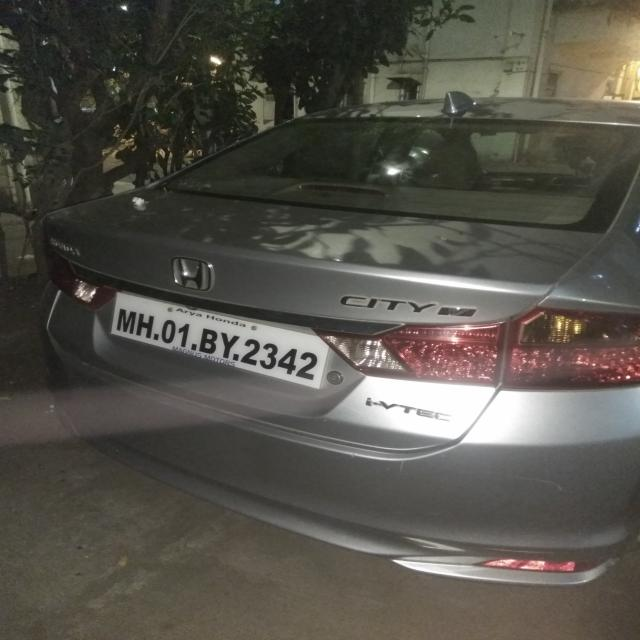Number-Plate: (105, 293, 340, 384)
